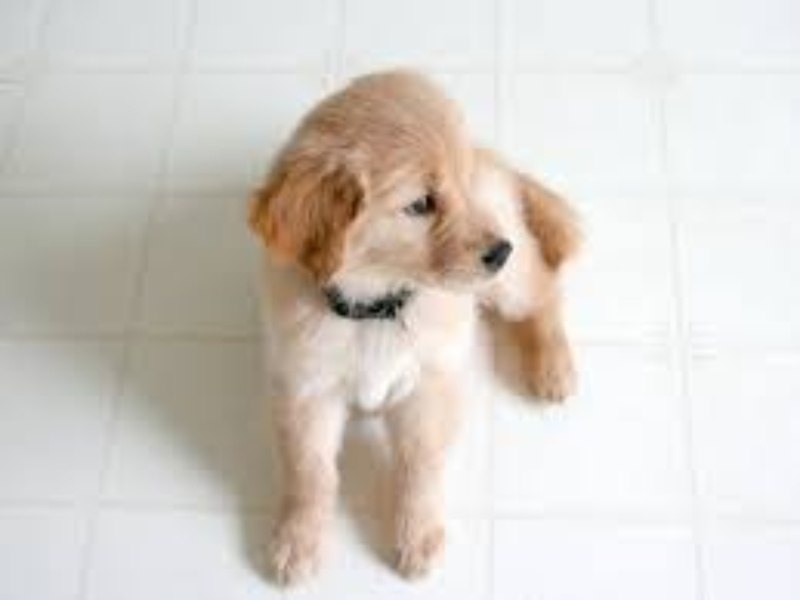dog: (246, 63, 586, 597)
